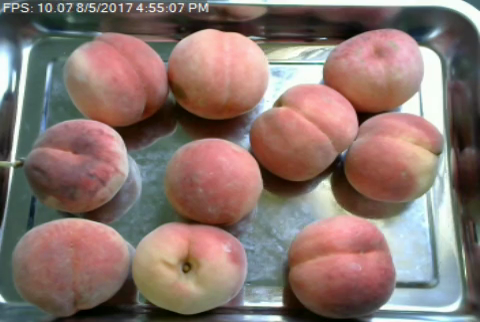Peach: (11, 216, 129, 316), (285, 213, 396, 319), (249, 82, 357, 182), (135, 222, 247, 316), (65, 32, 169, 128), (25, 118, 129, 212), (167, 26, 270, 120), (341, 112, 444, 204), (321, 25, 424, 114), (164, 137, 261, 226)
